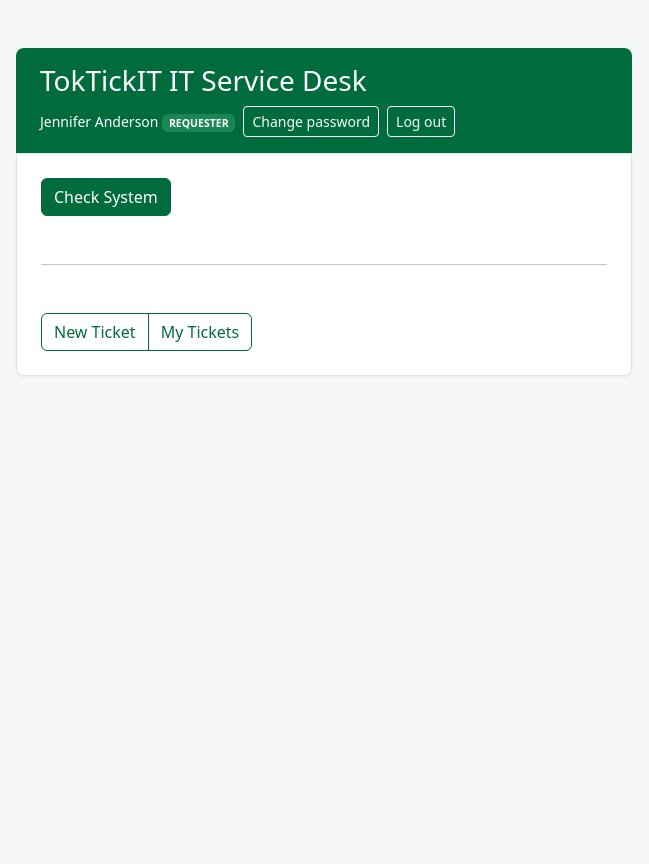
CreateTicketForm › submits the form under the logged-in session's identity and shows the returned unique Ticket Number
This screenshot has width=649, height=864.
Click the button "New Ticket".
click(95, 332)  # box [41,313,149,351]
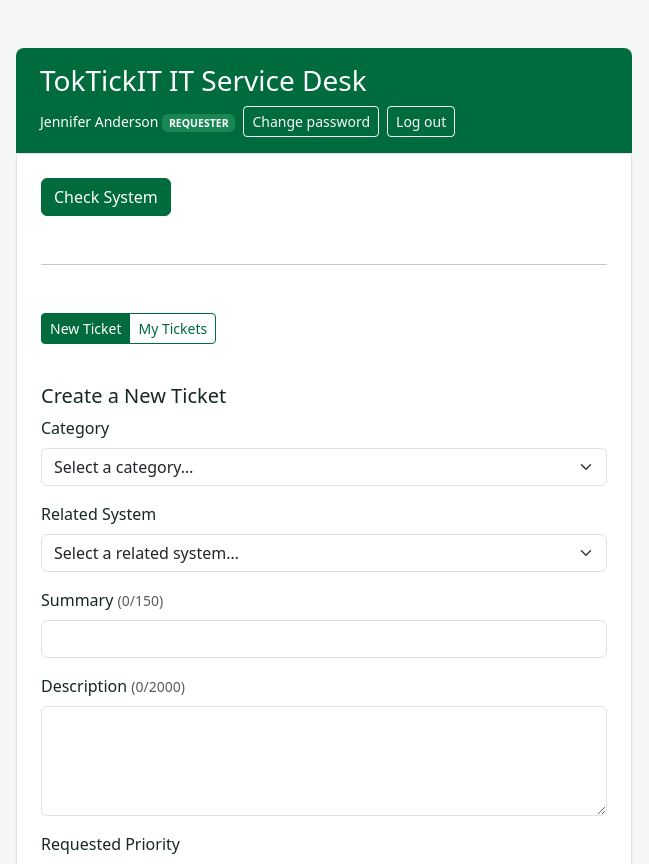
Select "Hardware" in the dropdown labelled "Category" at (324, 467), box [41,448,607,486]
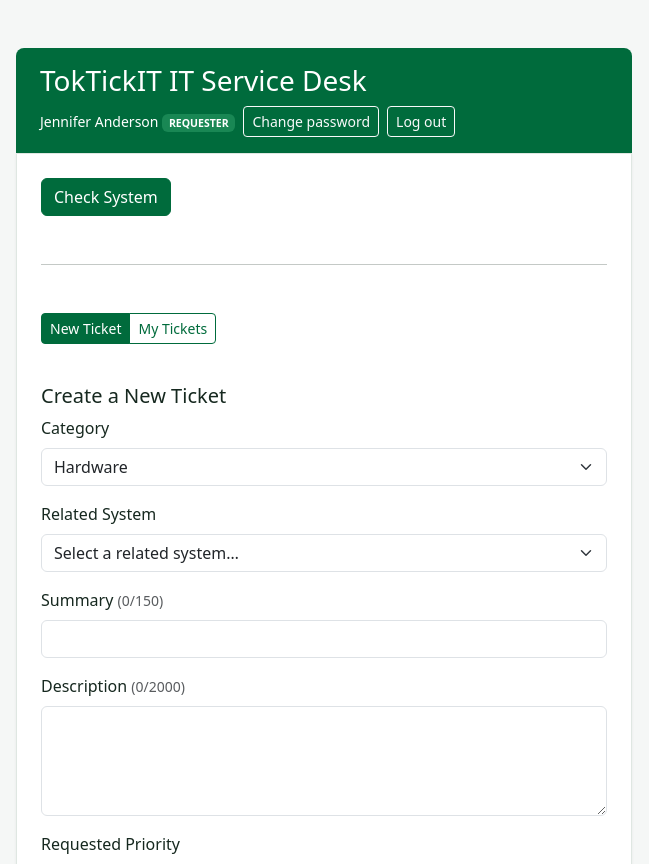
Select "Email" in the dropdown labelled "Related System" at (324, 553), box [41,534,607,572]
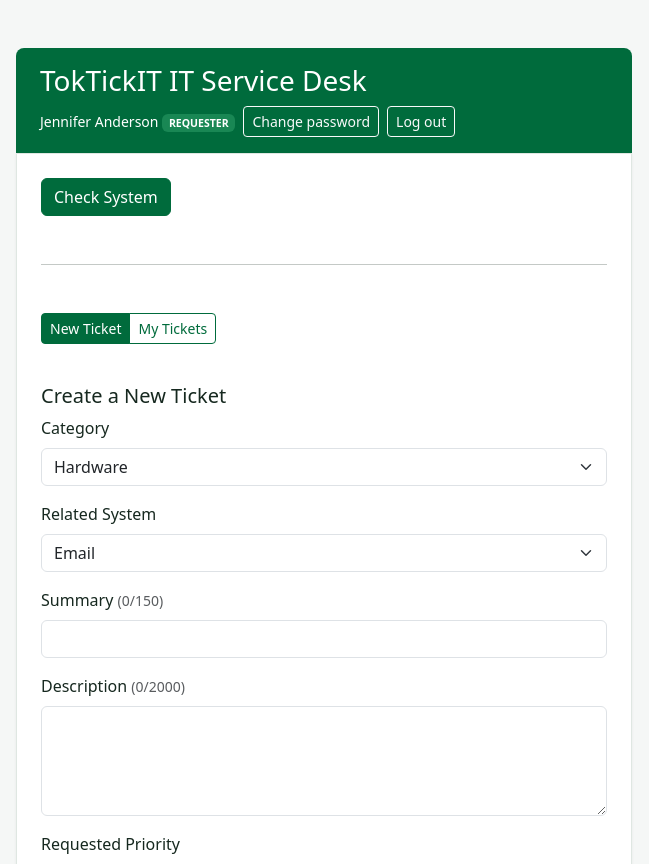
Type "Laptop battery drains quickly" into the field labelled "Summary (0/150)".
click(324, 639); type("Laptop battery drains quickly")  # box [41,620,607,658]
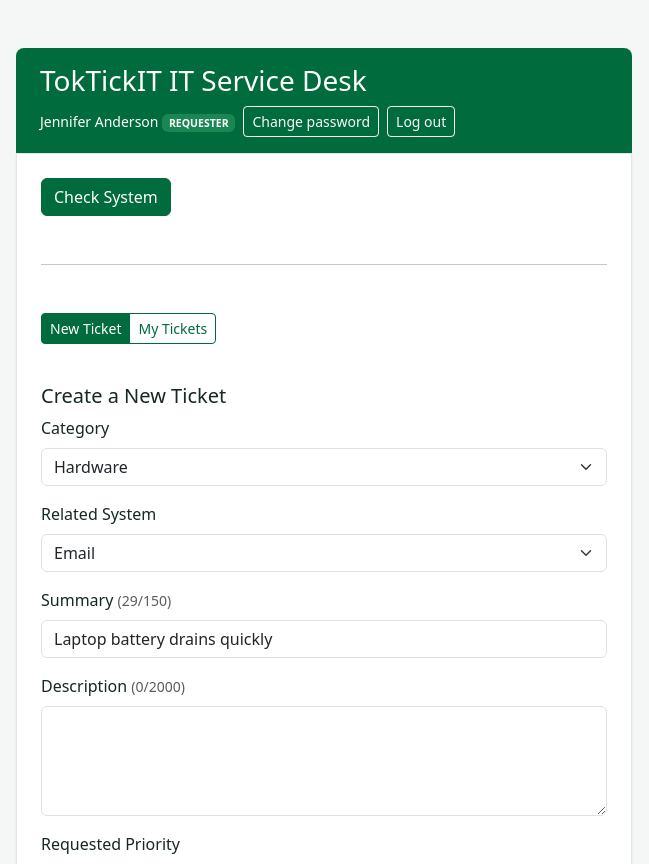
Type "Battery drains much faster than usual." into the text box labelled "Description (0/2000)".
click(324, 761); type("Battery drains much faster than usual.")  # box [41,706,607,816]
(page scrolled)
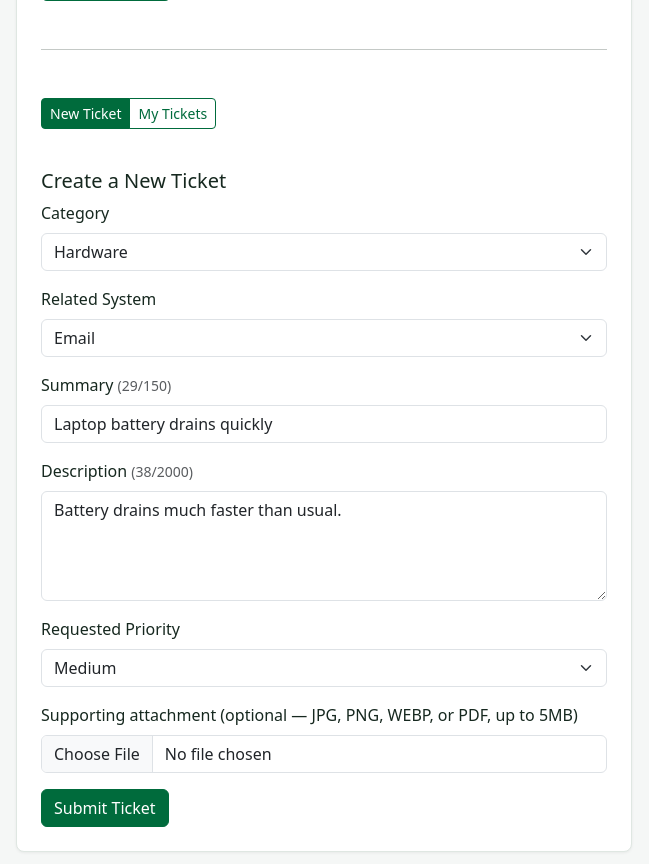
Click the button "Submit Ticket".
click(105, 808)  # box [41,789,169,827]
(page scrolled)
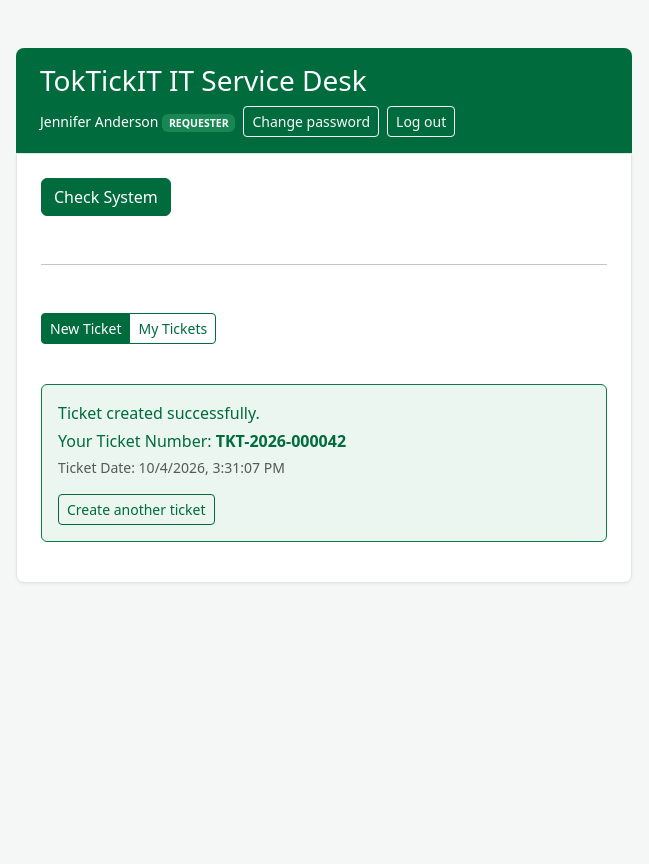
Expected: the text "TKT-2026-000042" is shown, [216,430,346,452]
